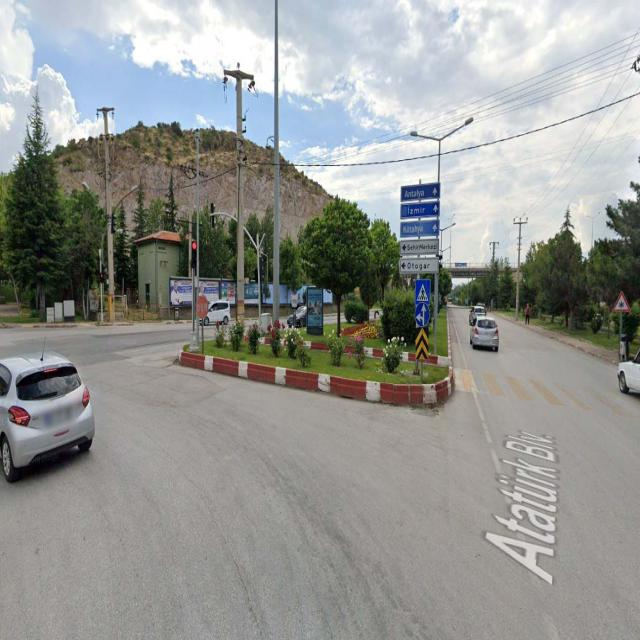dur: (196, 294, 208, 317)
ilerisol: (414, 300, 430, 329)
